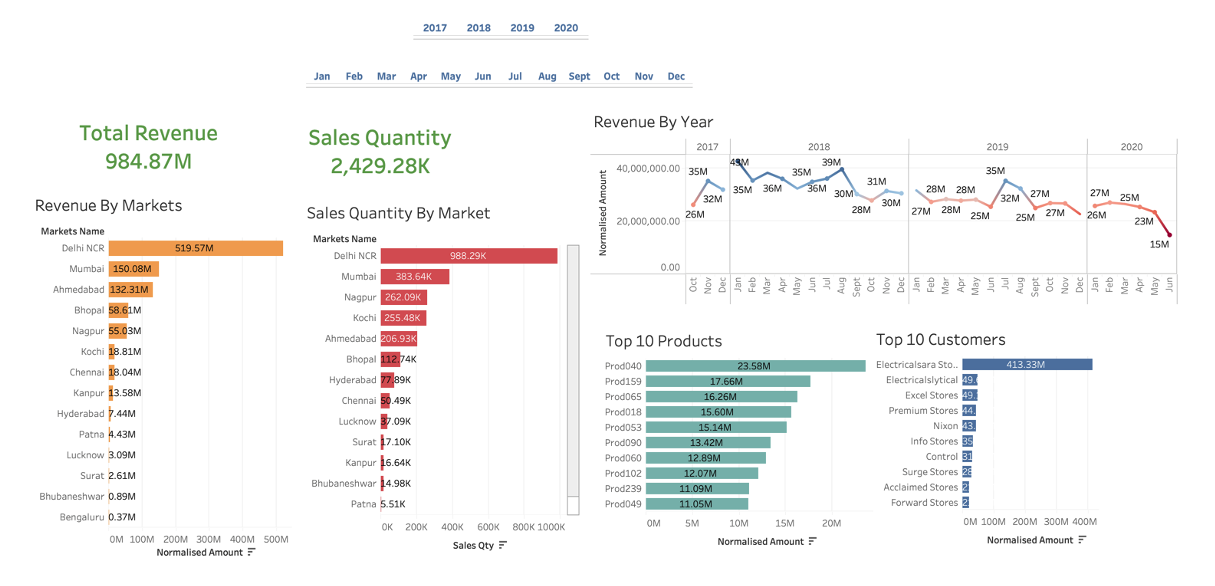

The dashboard page shown, as its layout file describes it:
{"tool":"tableau","page":{"name":"Dashboard Overview","canvas":[1500,900],"ordinal":0},"visuals":[{"type":"worksheet","title":"Year","mark":"Automatic","cols":["cy_date"],"box":[500,16,238,51]},{"type":"worksheet","title":"Month","mark":"Automatic","cols":["cy_date"],"box":[360,79,515,70]},{"type":"worksheet","title":"Quantity","mark":"Automatic","box":[345,141,255,114]},{"type":"worksheet","title":"Revenue By Year","mark":"Automatic","rows":["Calculation_1837609440272912384"],"cols":["cy_date","cy_date"],"box":[731,143,766,260]},{"type":"worksheet","title":"Revenue ","mark":"Automatic","box":[44,144,253,102]},{"type":"worksheet","title":"Revenue By Markets","mark":"Automatic","rows":["markets_name"],"cols":["Calculation_1837609440272912384"],"box":[2,252,339,532]},{"type":"worksheet","title":"Sales Quantity By Market","mark":"Automatic","rows":["markets_name"],"cols":["sales_qty"],"box":[357,262,360,470]},{"type":"worksheet","title":"Top 10 Customers","mark":"Automatic","rows":["custmer_name"],"cols":["Calculation_1837609440272912384"],"box":[1100,427,294,347]},{"type":"worksheet","title":"Top 10 Products","mark":"Automatic","rows":["product_code (products)"],"cols":["Calculation_1837609440272912384"],"box":[747,429,357,374]}]}

Visuals, with their boxes on the page's 1500x900 design canvas (x1, y1, x2, y2). These are canvas units, not pixel positions in the 1215x586 screenshot, which may show the page scaled, cropped or inside an application window:
"Year" worksheet: [500, 16, 738, 67]
"Month" worksheet: [360, 79, 875, 149]
"Quantity" worksheet: [345, 141, 600, 255]
"Revenue By Year" worksheet: [731, 143, 1497, 403]
"Revenue " worksheet: [44, 144, 297, 246]
"Revenue By Markets" worksheet: [2, 252, 341, 784]
"Sales Quantity By Market" worksheet: [357, 262, 717, 732]
"Top 10 Customers" worksheet: [1100, 427, 1394, 774]
"Top 10 Products" worksheet: [747, 429, 1104, 803]
